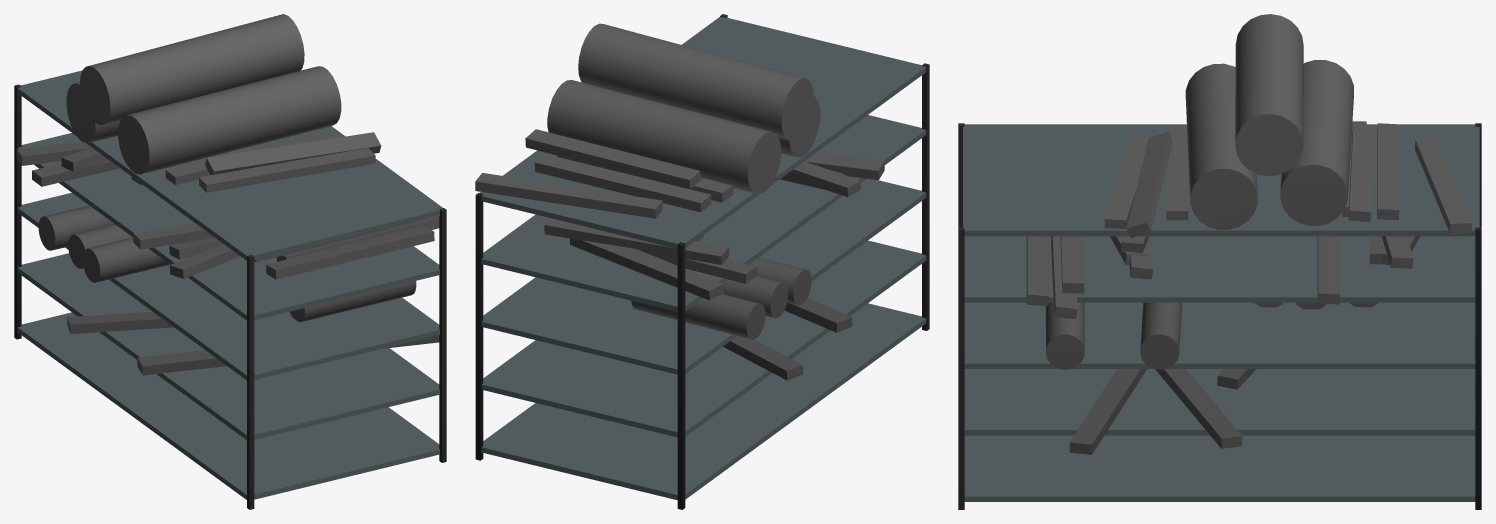
Rendered from Metal Zone.fbx.
3 renders of one model, left to right at view 1: azimuth 30°, elevation 25°; view 2: azimuth 150°, elevation 25°; view 3: azimuth 270°, elevation 25°, orthographic. The views are drawn at different scales.
Visible parts, largest first — view 1: Cube.104; view 2: Cube.104; view 3: Cube.104.
Part boxes in pixels (<box>): Cube.104: <box>14,14,446,509</box>; Cube.104: <box>475,14,929,509</box>; Cube.104: <box>958,14,1481,509</box>.
Bounding box in the file's own units: 199 × 296 × 241.
